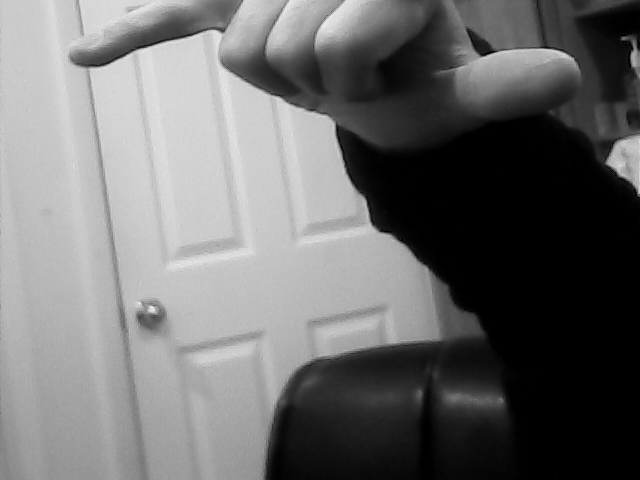aloha: (63, 1, 585, 146)
